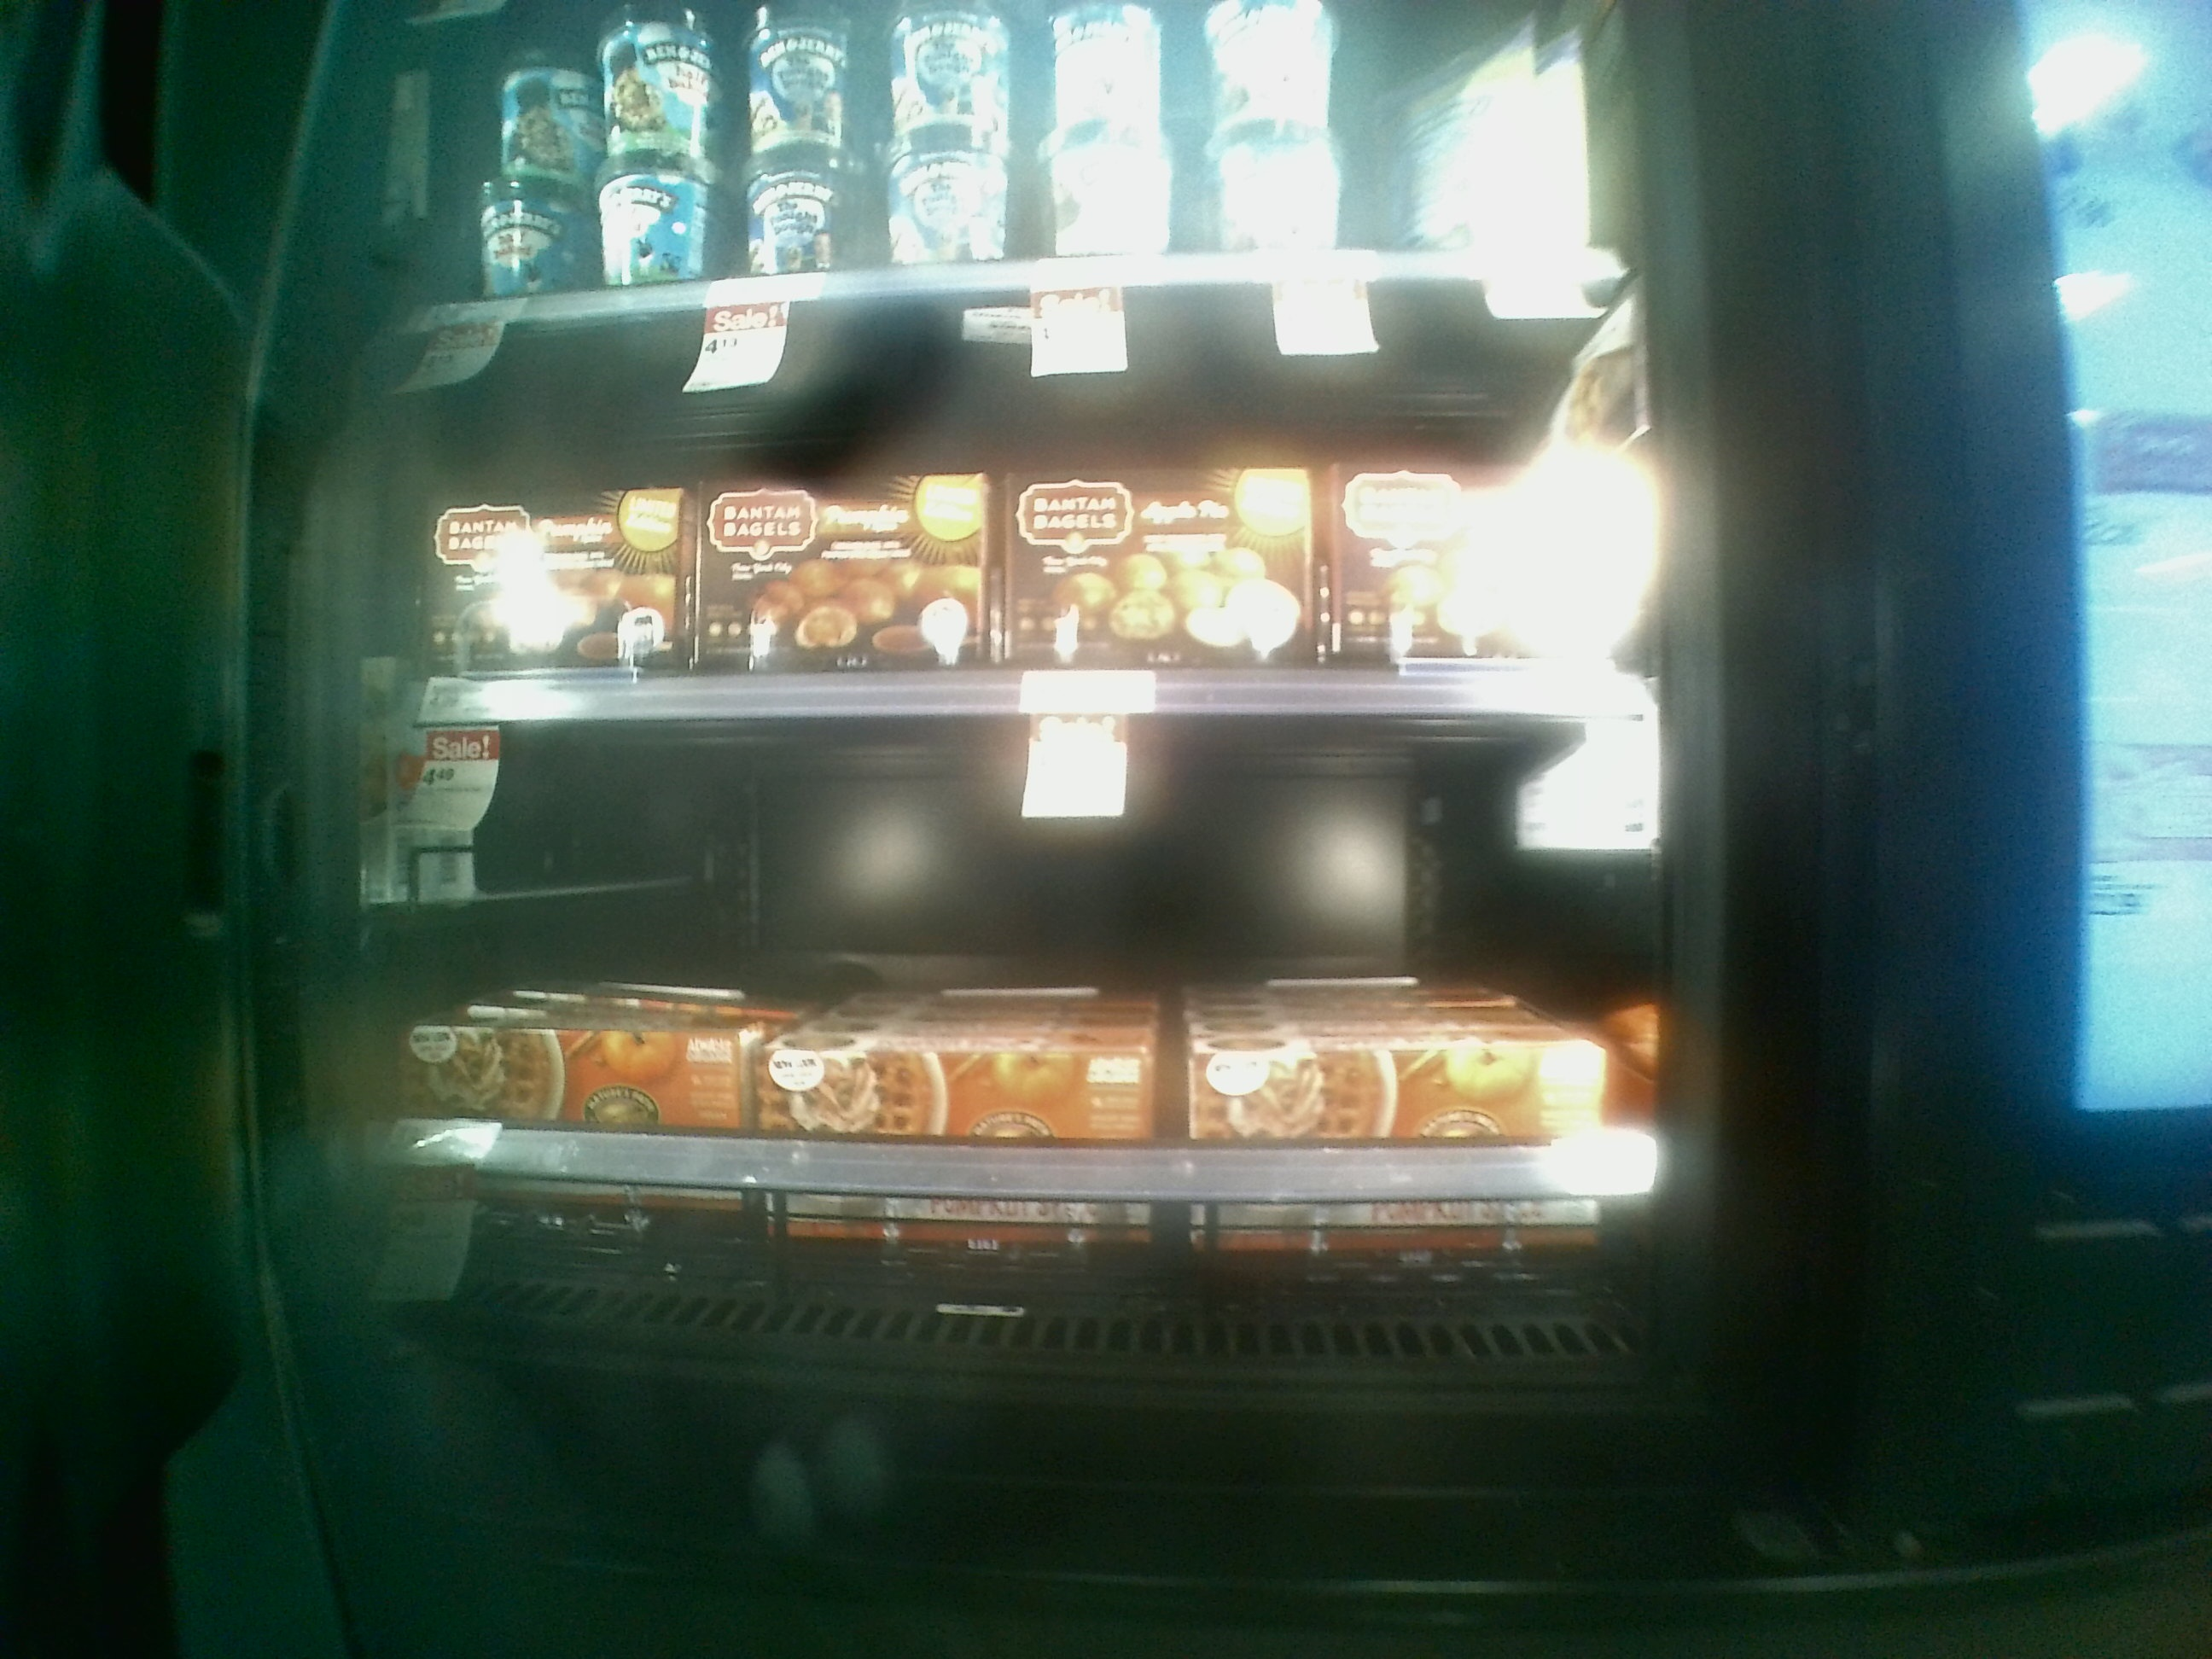shelf: (341, 678, 1719, 1427), (354, 289, 1679, 723)
